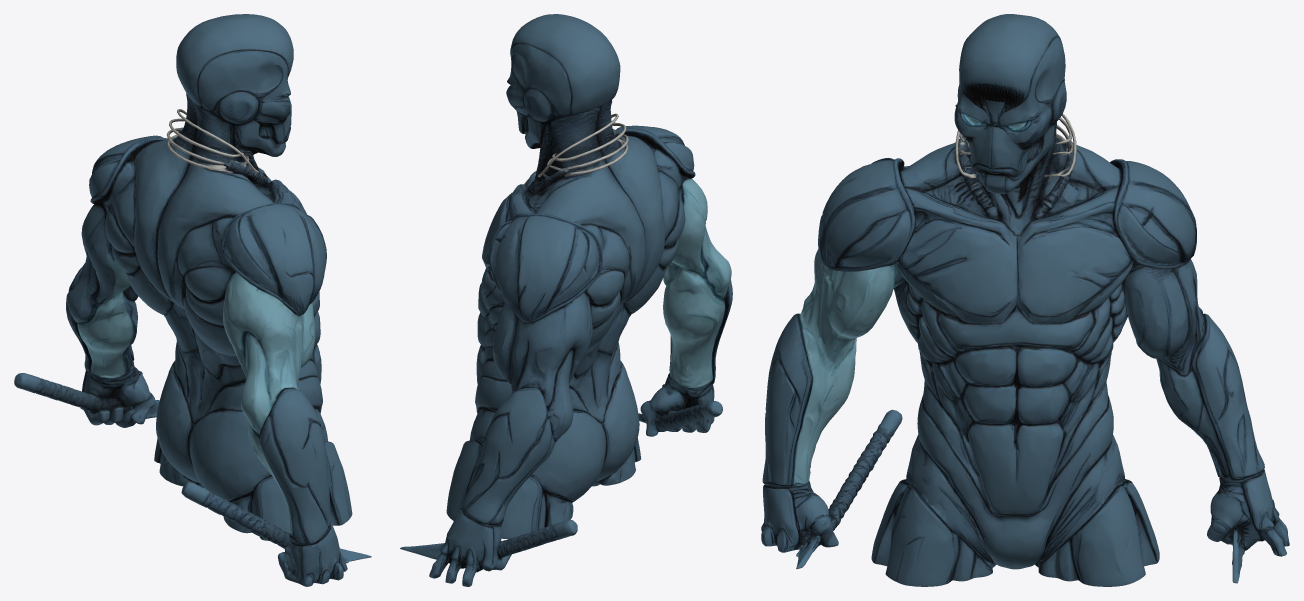
The model's file is ironveil3dskin2.glb.
3 views of the same model, side by side, from view 1: azimuth 30°, elevation 25°; view 2: azimuth 150°, elevation 25°; view 3: azimuth 270°, elevation 25° (orthographic). The views are drawn at different scales.
Parts seen in each view (by area): view 1: tripo_node_49cca581-401f-4584-8ca1-b04f08528975; view 2: tripo_node_49cca581-401f-4584-8ca1-b04f08528975; view 3: tripo_node_49cca581-401f-4584-8ca1-b04f08528975.
Part boxes in pixels (box(x1,y1,x2,y2)): tripo_node_49cca581-401f-4584-8ca1-b04f08528975: box(14, 14, 371, 586); tripo_node_49cca581-401f-4584-8ca1-b04f08528975: box(400, 14, 732, 586); tripo_node_49cca581-401f-4584-8ca1-b04f08528975: box(761, 14, 1289, 586).
Bounding box in the file's own units: 0.4238 × 1 × 0.9084.
Materials: 1 (1 with a texture image).
